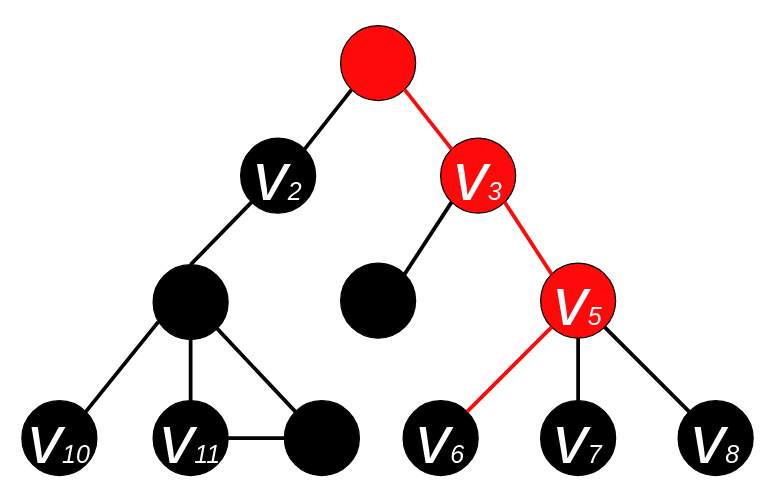
Some shapes in this 775 by 501 pixel diagram are drawn without their labels. The shapes that lost their labels are listed below. From the top down, each one's centre as x and y in pixels, then its label:
At (377,62): "v 1".
At (190,301): "v 9".
At (377,300): "v 4".
At (321,437): "v 12".
